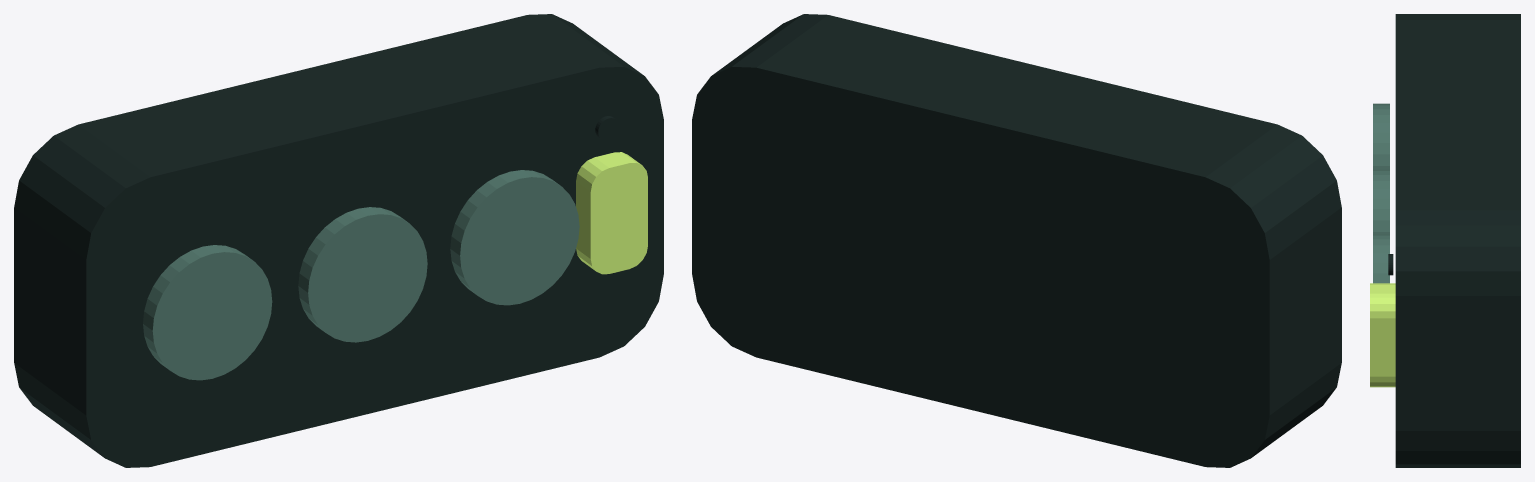
File: powerstrip.glb
3 renders of one model, left to right at view 1: azimuth 30°, elevation 25°; view 2: azimuth 150°, elevation 25°; view 3: azimuth 270°, elevation 25°, orthographic. The views are drawn at different scales.
Visible parts, largest first — view 1: case, socket-0.52, socket-0.06, socket0.39, switch; view 2: case; view 3: case, switch, socket-0.52, socket-0.06, socket0.39.
Boxes of the visible parts, x1=… form: case: x1=14, y1=14, x2=663, y2=467; socket-0.52: x1=143, y1=245, x2=272, y2=380; socket-0.06: x1=298, y1=207, x2=427, y2=342; socket0.39: x1=450, y1=170, x2=579, y2=305; switch: x1=576, y1=152, x2=647, y2=274; case: x1=692, y1=14, x2=1341, y2=467; case: x1=1395, y1=14, x2=1520, y2=467; switch: x1=1370, y1=283, x2=1395, y2=387; socket-0.52: x1=1373, y1=103, x2=1389, y2=169; socket-0.06: x1=1373, y1=169, x2=1389, y2=233; socket0.39: x1=1373, y1=234, x2=1389, y2=283.
Size of the model in its own units: 1.71 by 0.82 by 0.4455.
